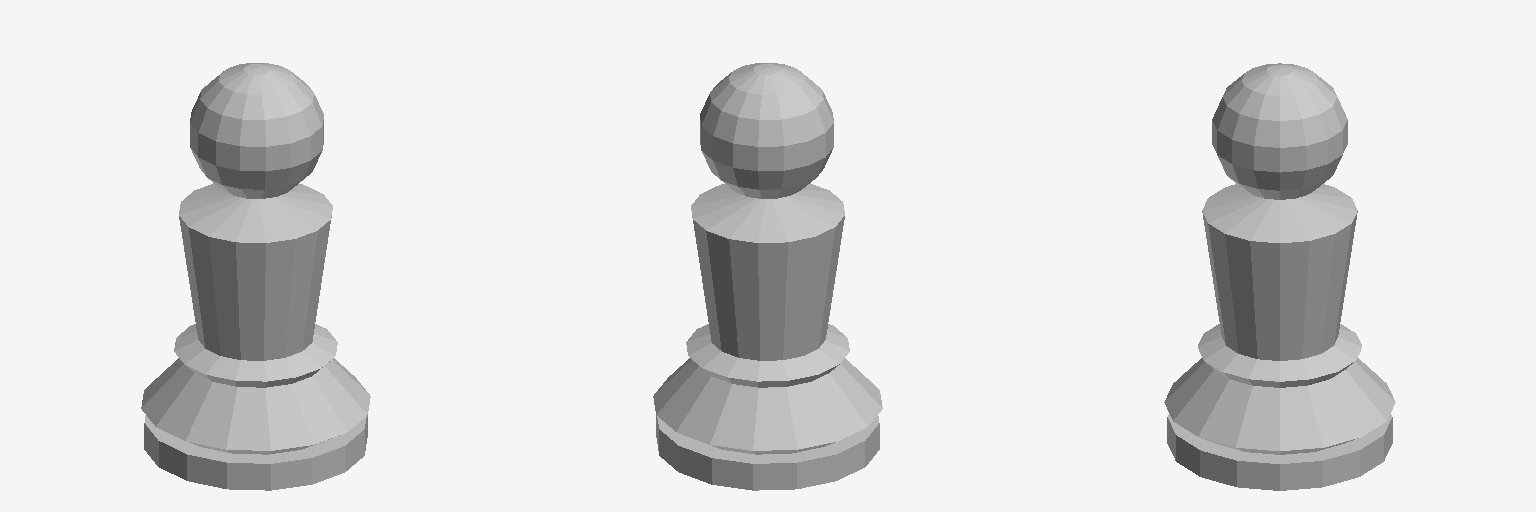
The model's file is pawnlow.obj.
3 renders of one model, left to right at view 1: azimuth 30°, elevation 25°; view 2: azimuth 150°, elevation 25°; view 3: azimuth 270°, elevation 25°, orthographic.
Visible parts, largest first — view 1: Cylinder; view 2: Cylinder; view 3: Cylinder.
Boxes of the visible parts, x1,y1,x2,y2 form: Cylinder: [141, 63, 370, 490]; Cylinder: [653, 63, 882, 490]; Cylinder: [1164, 63, 1395, 490].
Size of the model in its own units: 2.06 by 3.68 by 2.06.